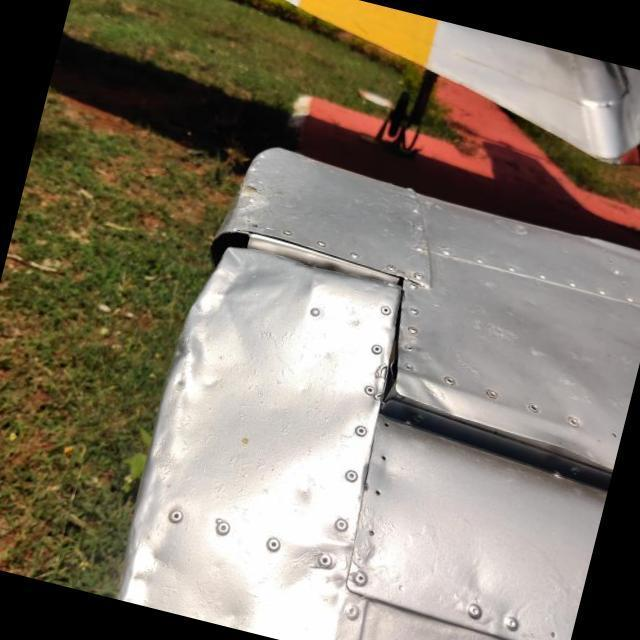Dent: (188, 231, 330, 350)
